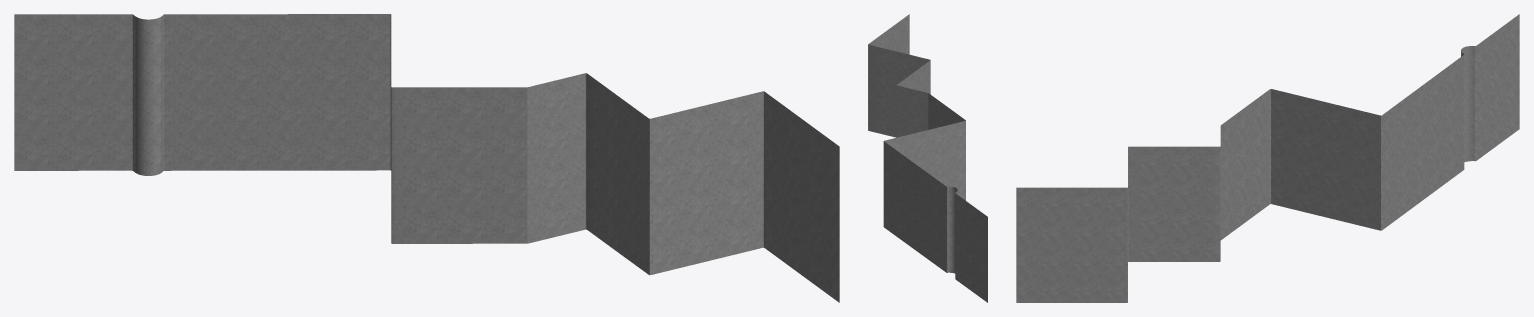
The model's file is WPLWall01.fbx.
The picture shows the model from 3 angles, left to right: view 1: azimuth 30°, elevation 25°; view 2: azimuth 150°, elevation 25°; view 3: azimuth 270°, elevation 25°; orthographic projection. The views are drawn at different scales.
Visible parts, largest first — view 1: Wall 01.Shape; view 2: Wall 01.Shape; view 3: Wall 01.Shape.
Part boxes in pixels (left/top/right/bottom): Wall 01.Shape: left=14, top=14, right=839, bottom=302; Wall 01.Shape: left=868, top=14, right=987, bottom=302; Wall 01.Shape: left=1016, top=14, right=1519, bottom=302.
Size of the model in its own units: 2058 by 636 by 2518.
1 material, 1 textured.
